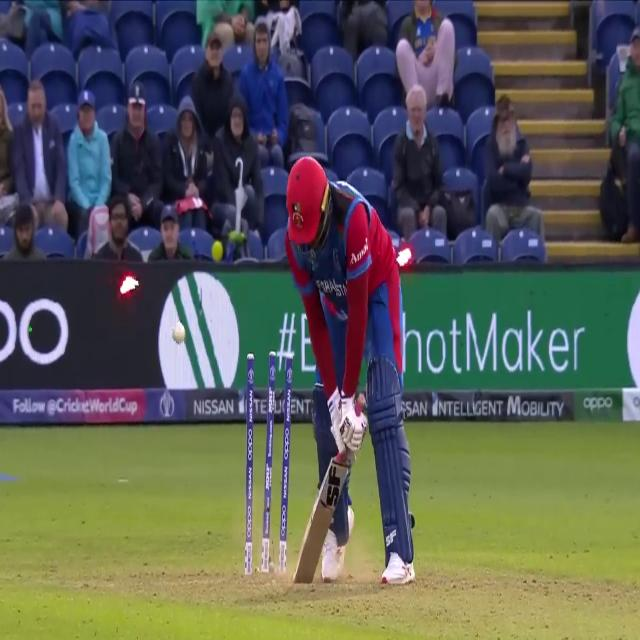ball: (169, 320, 189, 350)
